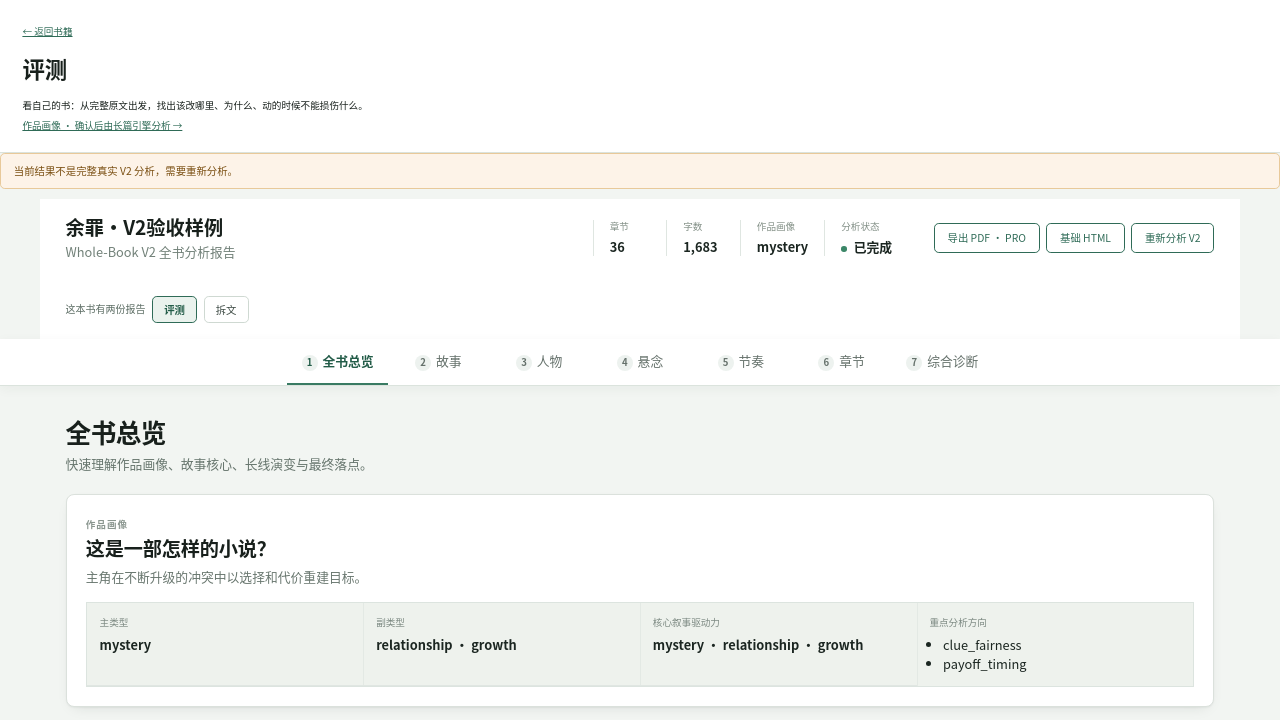
Test case: WholeBookV2ProductPage › 两种读法都在时给出切换入口，且能切过去
Expected: the button "评测" is shown, x1=152 y1=296 x2=197 y2=323
默认停在最新那一份（评测），点「拆文」应当去取另一次运行的文档。
Click the button "拆文".
click(226, 310)  # box x1=204 y1=296 x2=249 y2=323
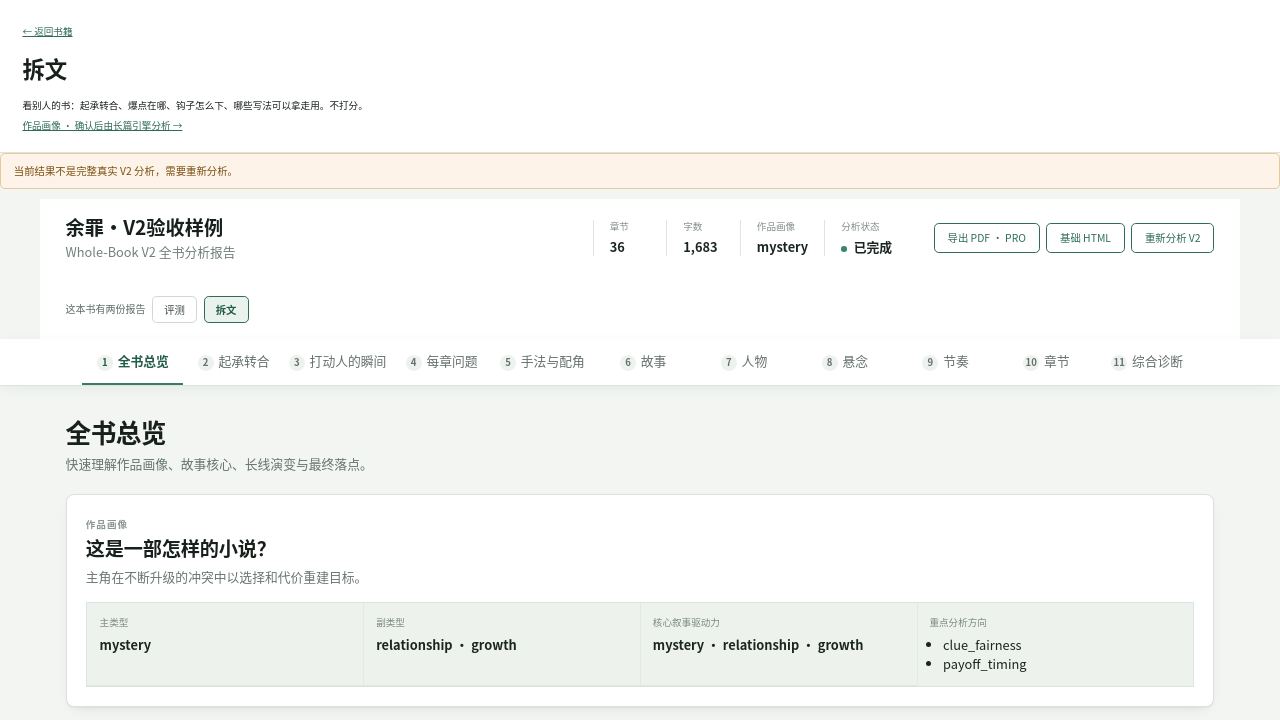
Now the button "2 起承转合" is shown, box x1=183 y1=339 x2=284 y2=386
